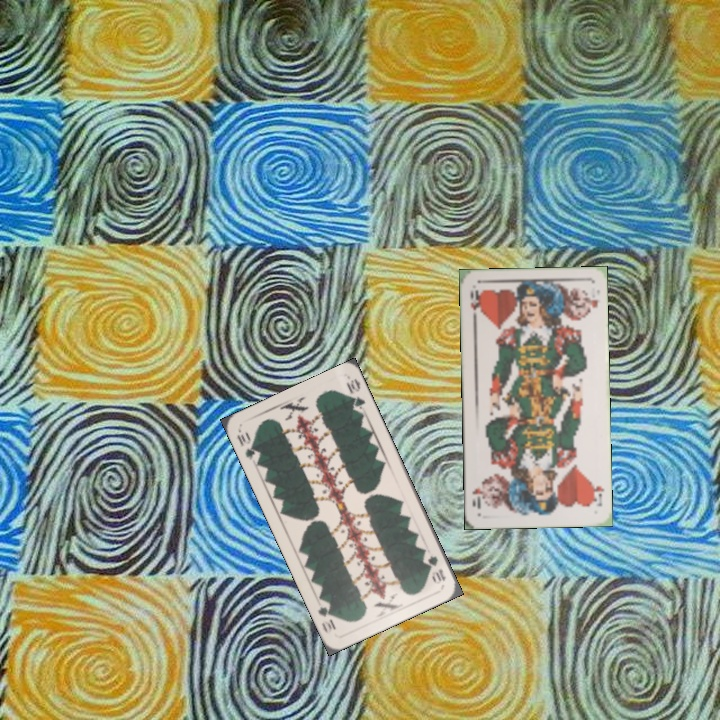G10: (233, 428, 263, 463), (423, 552, 448, 584)
HO: (466, 286, 483, 324), (587, 477, 606, 509)
